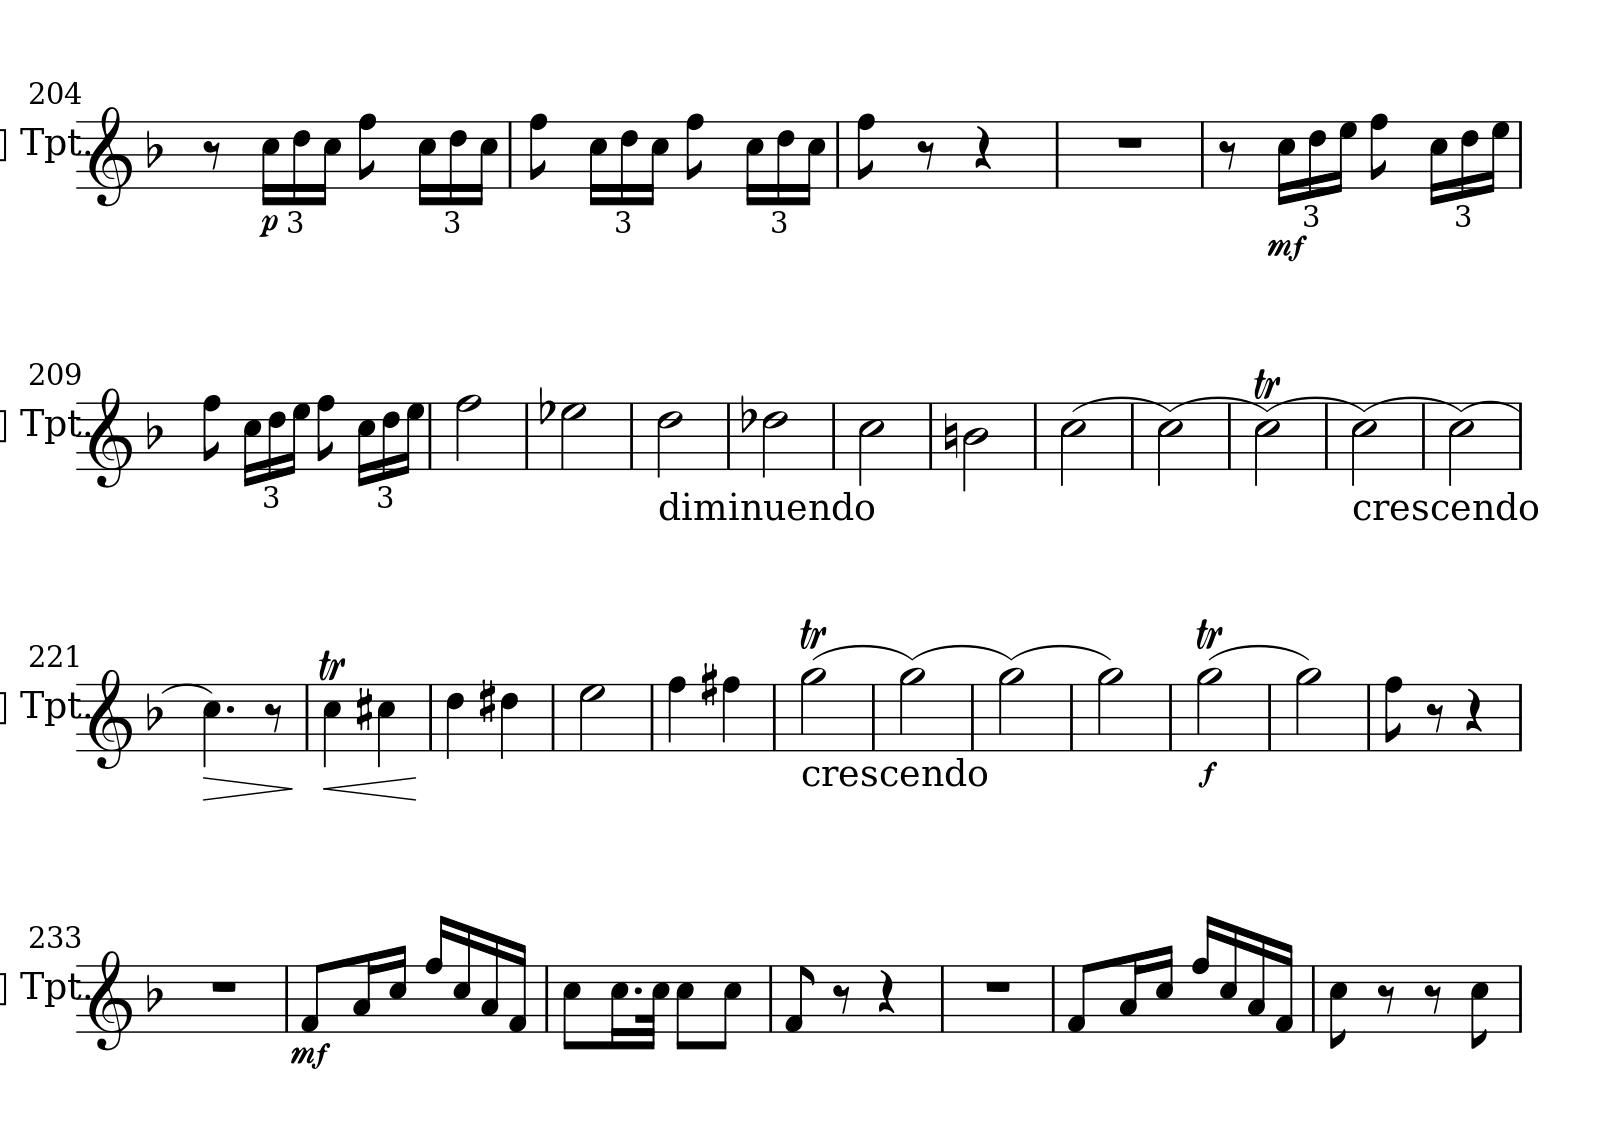0: (46, 79, 64, 106), (46, 360, 64, 387)
1: (65, 641, 79, 670)
16_1: (506, 938, 527, 1034), (1272, 938, 1293, 1034)
16_3: (478, 927, 500, 1035), (349, 951, 378, 1034), (1116, 951, 1142, 1034), (1245, 930, 1266, 1034)
16_5: (315, 119, 342, 206), (644, 119, 670, 206), (452, 920, 472, 1035), (473, 119, 499, 205), (1218, 920, 1238, 1034), (802, 119, 826, 206), (1153, 942, 1175, 1032), (258, 119, 280, 206), (415, 119, 437, 206), (1274, 119, 1296, 205), (239, 400, 261, 485), (587, 119, 607, 206), (743, 119, 764, 206), (608, 963, 629, 1051), (1427, 119, 1448, 205), (389, 942, 408, 1032), (356, 400, 376, 484)
16_6: (290, 119, 312, 205), (773, 119, 795, 205), (618, 119, 639, 205), (447, 119, 467, 206), (1306, 119, 1327, 198), (1459, 119, 1478, 198), (266, 400, 286, 479), (380, 400, 400, 478)
16_7: (1329, 119, 1358, 194), (400, 400, 426, 475), (285, 400, 310, 477), (1485, 119, 1510, 194)
16_8: (1190, 914, 1216, 1035), (423, 914, 448, 1034)
2: (27, 79, 46, 106), (27, 360, 46, 387), (27, 643, 46, 668), (28, 924, 46, 949), (46, 643, 64, 668)
2_4: (960, 400, 989, 492)
2_5: (1445, 400, 1476, 486), (1155, 400, 1184, 488), (1350, 400, 1380, 486), (1058, 400, 1086, 488), (1252, 401, 1281, 488), (857, 400, 883, 484)
2_6: (760, 400, 788, 478), (655, 400, 683, 477)
2_7: (558, 401, 587, 470), (577, 682, 605, 751)
2_8: (455, 392, 481, 472)
2_9: (993, 665, 1024, 754), (896, 666, 925, 754), (1193, 666, 1222, 754), (1094, 666, 1123, 753), (1292, 666, 1321, 753), (797, 665, 825, 753)
3: (769, 208, 789, 236), (613, 209, 633, 238), (1453, 203, 1474, 228), (260, 484, 281, 510), (374, 484, 395, 510), (286, 208, 305, 235), (64, 923, 83, 949), (1303, 203, 1320, 228), (46, 924, 64, 949), (444, 209, 459, 235)
32_5: (637, 963, 670, 1051)
4: (64, 79, 82, 106)
4_5: (200, 681, 222, 769), (375, 681, 396, 769), (321, 682, 342, 769)
4_6: (444, 681, 466, 760), (499, 681, 519, 761)
4_8: (665, 674, 687, 753), (720, 674, 740, 753)
8_1: (782, 962, 816, 1034), (1065, 960, 1094, 1034), (299, 960, 327, 1032)
8_5: (714, 962, 742, 1052), (1467, 962, 1489, 1050), (1327, 963, 1348, 1050), (561, 963, 580, 1052), (674, 963, 694, 1051)
8_8: (1381, 674, 1404, 753), (854, 111, 876, 191), (199, 393, 221, 470), (683, 111, 704, 191), (1367, 111, 1388, 191), (356, 112, 376, 191), (527, 111, 547, 189), (314, 393, 335, 470)
9: (64, 360, 83, 389)
Crescendo_hairpin: (323, 773, 419, 802)
Diminuendo_hairpin: (202, 776, 293, 802)
Flat: (143, 127, 163, 167), (143, 689, 163, 729), (143, 409, 163, 448), (144, 971, 163, 1012), (536, 385, 554, 426), (739, 393, 755, 435)
Gclef: (87, 103, 132, 206), (87, 384, 132, 488), (87, 947, 131, 1051), (87, 667, 131, 770)
Natural: (941, 411, 958, 459)
Rests1: (1113, 133, 1149, 153), (980, 977, 1017, 995), (206, 977, 239, 995)
Rests4: (971, 123, 993, 171), (875, 966, 896, 1015), (1463, 685, 1483, 733)
Rests8: (1375, 981, 1398, 1015), (915, 137, 937, 172), (200, 137, 224, 170), (1216, 138, 1239, 171), (1425, 700, 1447, 734), (1422, 981, 1444, 1015), (261, 701, 283, 733), (831, 982, 852, 1015)
Sharp: (477, 676, 496, 725), (699, 660, 718, 707), (354, 685, 373, 734)
Single_barline: (276, 963, 296, 1032), (1511, 402, 1530, 470), (624, 401, 641, 470), (720, 402, 737, 470), (866, 683, 883, 751), (1318, 403, 1336, 470), (1416, 403, 1433, 470), (423, 683, 440, 750), (545, 683, 562, 750), (934, 964, 951, 1031), (503, 121, 521, 188), (1124, 403, 1141, 469), (299, 684, 316, 750), (644, 684, 661, 750), (1194, 119, 1210, 188), (826, 401, 842, 469), (1028, 401, 1043, 469), (1046, 964, 1062, 1032), (1050, 120, 1065, 187), (519, 402, 535, 469), (923, 402, 938, 469), (767, 684, 783, 751), (1513, 965, 1529, 1032), (424, 402, 440, 468), (538, 965, 554, 1031), (762, 965, 778, 1031), (831, 122, 847, 188), (1222, 406, 1238, 470), (1513, 684, 1529, 749), (967, 683, 981, 751), (1065, 683, 1080, 750), (1164, 684, 1179, 750), (1263, 684, 1278, 750), (1362, 683, 1375, 751)
Slur: (1012, 641, 1112, 663), (912, 643, 1014, 663), (1212, 643, 1310, 663), (815, 643, 912, 663), (1072, 395, 1171, 413), (1169, 396, 1268, 414), (1364, 395, 1461, 413), (1267, 396, 1364, 413), (1513, 119, 1529, 191), (1305, 964, 1321, 1032), (160, 682, 215, 696), (1463, 401, 1519, 413)
Tpt: (17, 685, 82, 731), (17, 966, 82, 1010), (17, 122, 82, 165), (16, 404, 83, 444)
Trill: (798, 616, 827, 651), (1194, 616, 1222, 651), (1252, 367, 1281, 401), (316, 648, 345, 682)
dot: (224, 703, 236, 715), (632, 984, 645, 995)
f: (1194, 759, 1219, 789)
mf: (287, 1040, 332, 1073), (1266, 232, 1307, 261)
p: (257, 213, 279, 239)
